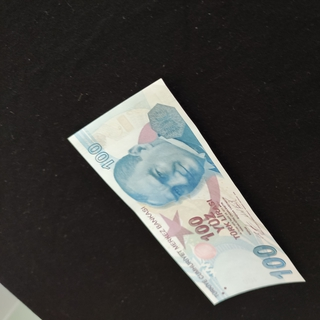100TLFront: (67, 77, 306, 306)
